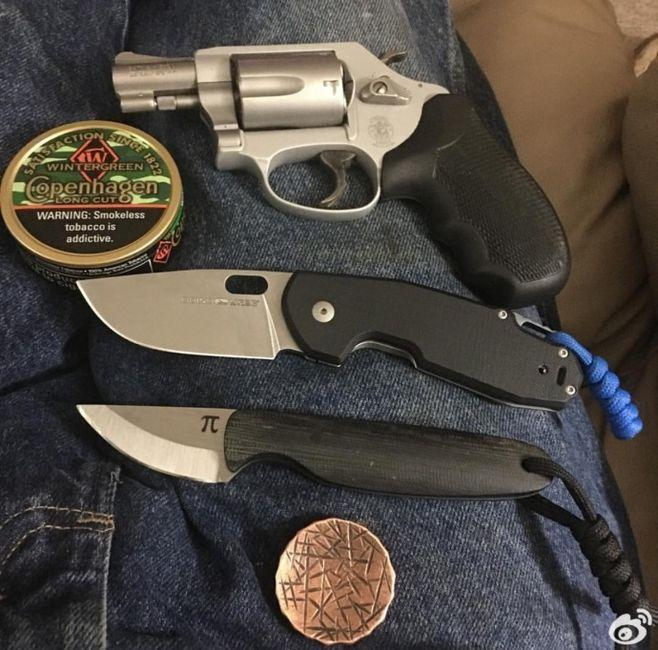knife: (54, 245, 632, 560)
